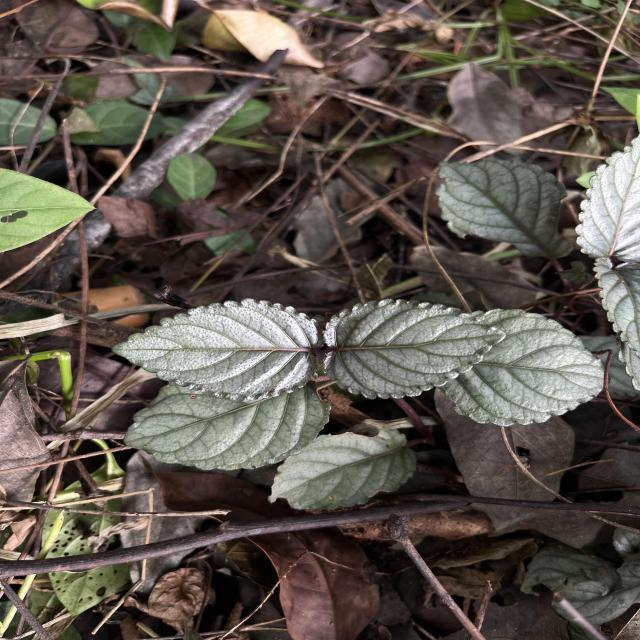Hemigraphis colorata: (108, 296, 328, 406), (432, 305, 612, 428), (319, 296, 508, 402), (121, 380, 334, 472), (431, 154, 575, 264), (266, 423, 419, 512), (573, 130, 640, 264)
